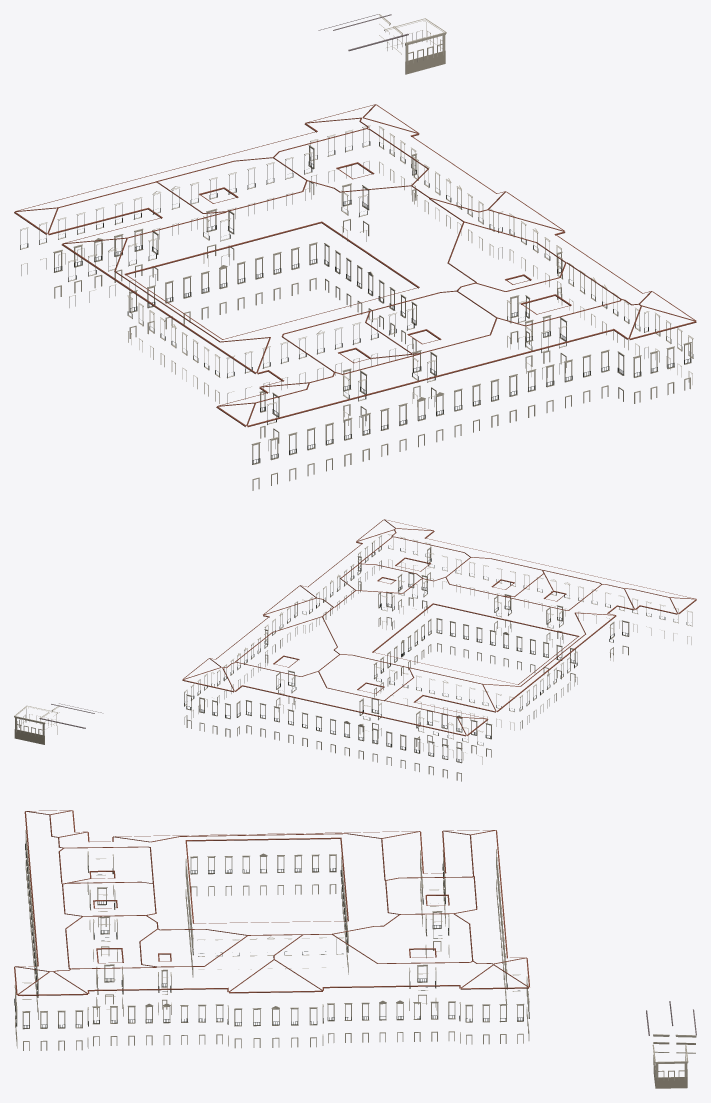
3 renders of one model, top to bottom at view 1: azimuth 30°, elevation 25°; view 2: azimuth 150°, elevation 25°; view 3: azimuth 270°, elevation 25°, orthographic. The views are drawn at different scales.
Visible parts, largest first — view 1: detail; view 2: detail; view 3: detail.
Part boxes in pixels (bbox=[...]): detail: bbox=[14, 14, 696, 490]; detail: bbox=[14, 519, 696, 781]; detail: bbox=[14, 810, 696, 1088].
Size of the model in its own units: 141 by 21.12 by 171.
